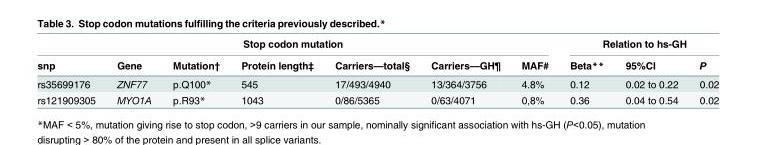table: (36, 37, 718, 105)
table column: (323, 37, 419, 105), (229, 37, 323, 105), (419, 37, 509, 105), (614, 37, 688, 105), (36, 37, 105, 105), (161, 37, 229, 105), (105, 37, 161, 105), (558, 37, 614, 105), (509, 37, 558, 105), (688, 37, 718, 105)
table column header: (36, 37, 718, 74)
table row: (36, 53, 718, 74), (36, 74, 718, 91), (36, 37, 718, 53), (36, 91, 718, 105)
table spanning cell: (36, 37, 558, 53), (558, 37, 718, 53)
